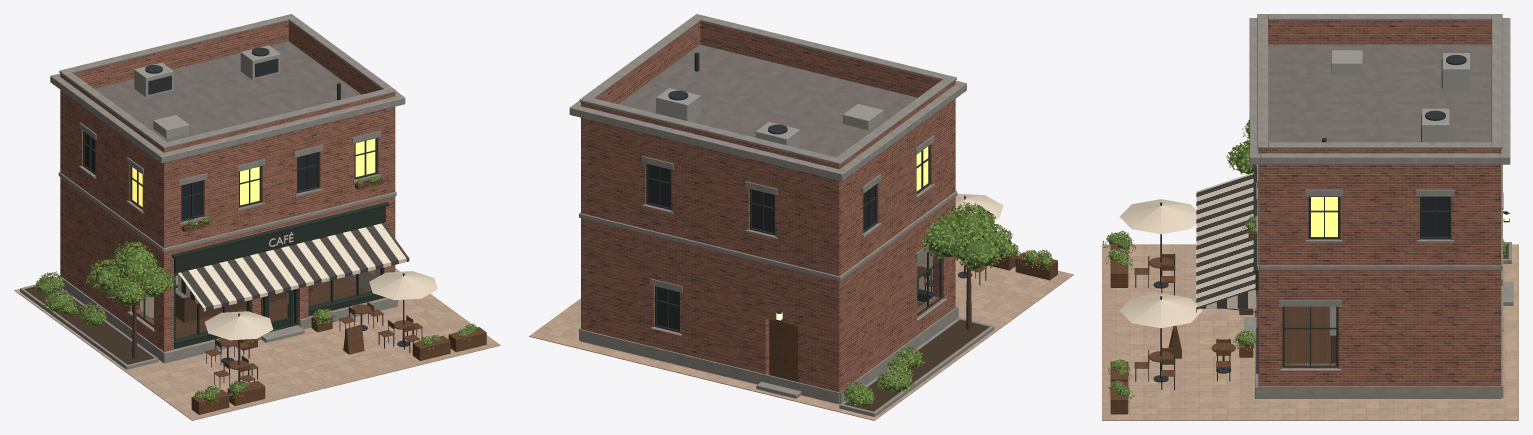
The model's file is cafe.glb.
The picture shows the model from 3 angles, left to right: view 1: azimuth 30°, elevation 25°; view 2: azimuth 150°, elevation 25°; view 3: azimuth 270°, elevation 25°; orthographic projection. The views are drawn at different scales.
Visible parts, largest first — view 1: cafe; view 2: cafe; view 3: cafe.
Boxes of the visible parts, box(x1,y1,x2,y2) form: cafe: box(14, 14, 500, 420); cafe: box(529, 14, 1073, 420); cafe: box(1102, 14, 1518, 420).
Size of what is drawn, in the model's own units: 12.72 by 8.03 by 12.
Materials: 26 (6 with a texture image).
